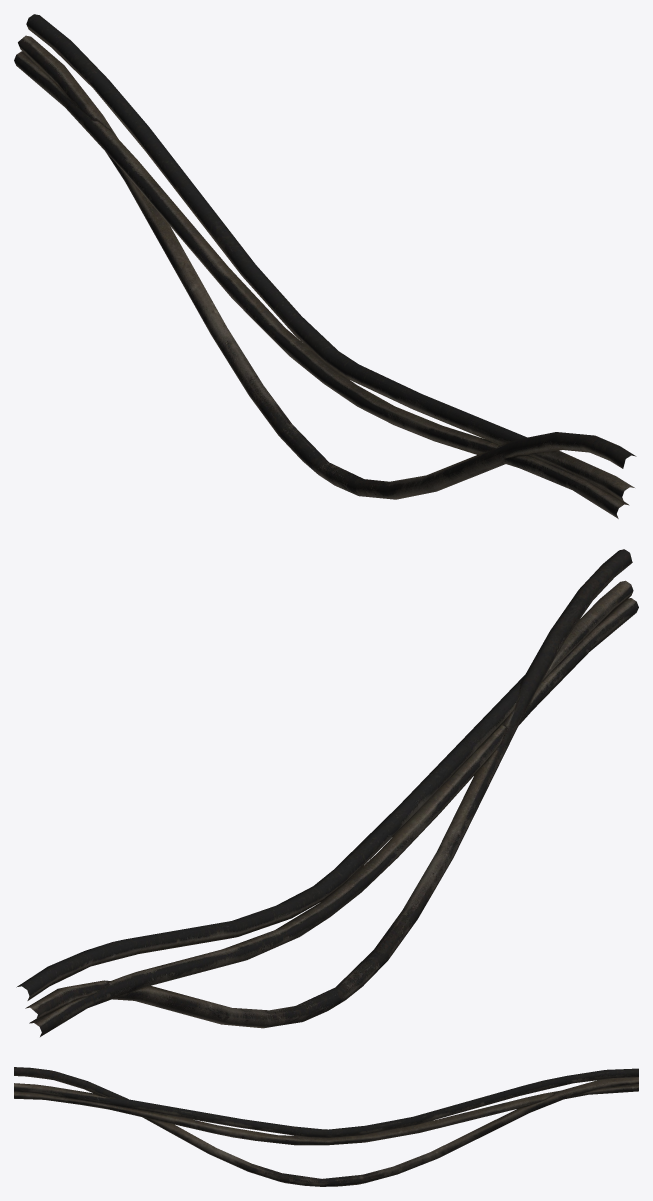
File: SM_Cables02.glb
The picture shows the model from 3 angles, top to bottom: view 1: azimuth 30°, elevation 25°; view 2: azimuth 150°, elevation 25°; view 3: azimuth 270°, elevation 25°; orthographic projection. The views are drawn at different scales.
Parts seen in each view (by area): view 1: SM_Cables02; view 2: SM_Cables02; view 3: SM_Cables02.
Boxes of the visible parts, x1=… form: SM_Cables02: x1=14, y1=14, x2=636, y2=518; SM_Cables02: x1=16, y1=549, x2=638, y2=1036; SM_Cables02: x1=14, y1=1067, x2=638, y2=1186.
Bounding box in the file's own units: 0.0623 × 0.4296 × 1.99.
1 material, 1 textured.
